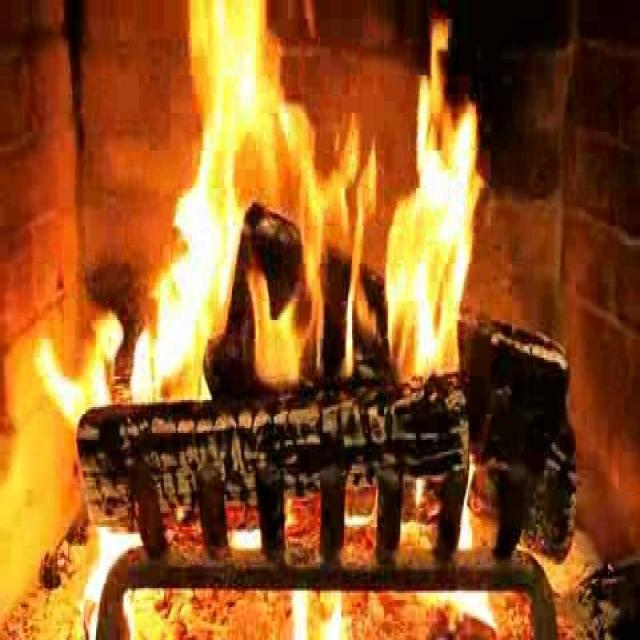Fire: (18, 0, 640, 454)
